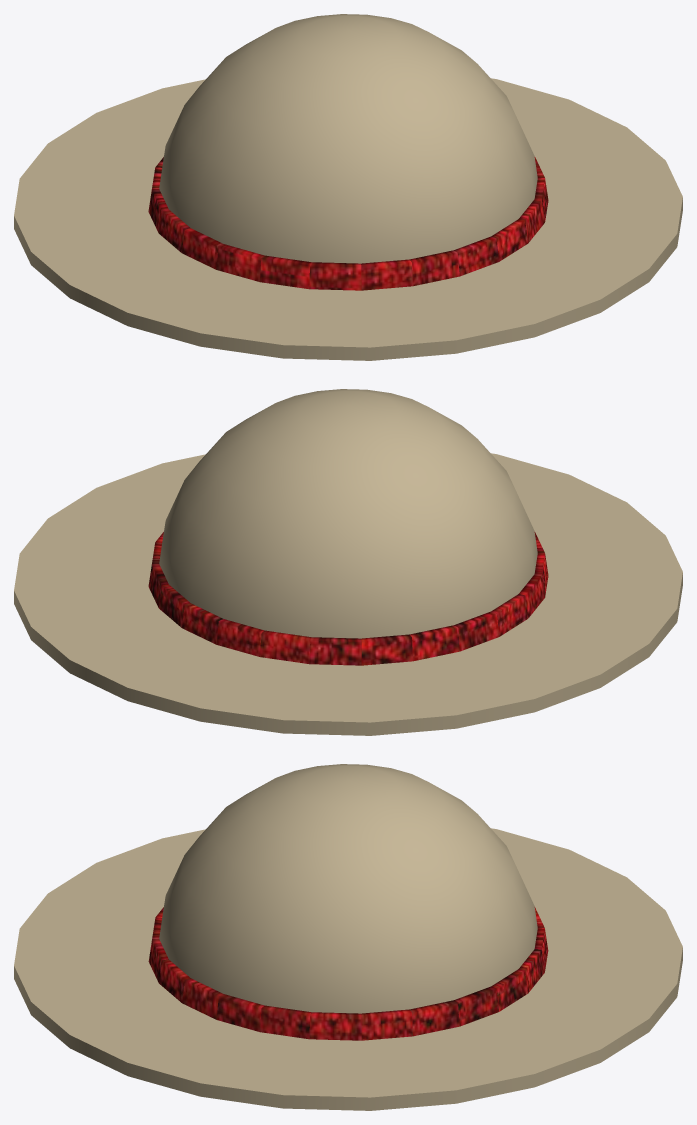
File: hat_straw.fbx
The picture shows the model from 3 angles, top to bottom: view 1: azimuth 30°, elevation 25°; view 2: azimuth 150°, elevation 25°; view 3: azimuth 270°, elevation 25°; orthographic projection.
Parts seen in each view (by area): view 1: hat_straw, hat_straw_band; view 2: hat_straw, hat_straw_band; view 3: hat_straw, hat_straw_band.
Part boxes in pixels (<box>): hat_straw: <box>14,14,682,360</box>; hat_straw_band: <box>148,157,548,290</box>; hat_straw: <box>14,389,682,735</box>; hat_straw_band: <box>148,532,548,665</box>; hat_straw: <box>14,764,682,1110</box>; hat_straw_band: <box>148,907,548,1040</box>.
Size of the model in its own units: 1.38 by 0.4275 by 1.38.
